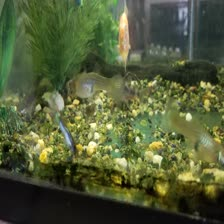Guppy: (160, 98, 223, 167), (68, 67, 130, 100), (53, 110, 86, 158)
